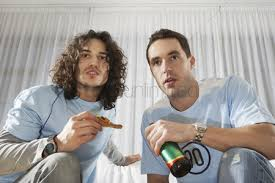beer: (149, 122, 193, 178)
